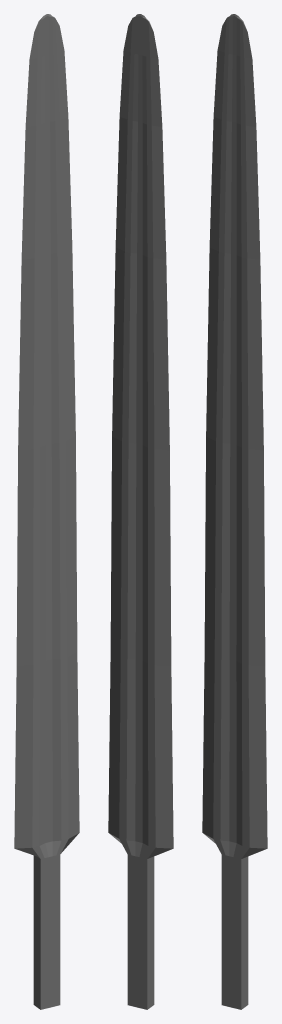
The model's file is ModularSwordKit_Klinge03.fbx.
3 renders of one model, left to right at view 1: azimuth 30°, elevation 25°; view 2: azimuth 150°, elevation 25°; view 3: azimuth 330°, elevation 25°, orthographic.
Visible parts, largest first — view 1: Klinge03; view 2: Klinge03; view 3: Klinge03.
Part boxes in pixels (x1,y1,x2,y2): Klinge03: (14, 14, 79, 1009); Klinge03: (108, 14, 173, 1009); Klinge03: (202, 14, 267, 1009).
Size of the model in its own units: 26.36 by 382 by 4.99.
